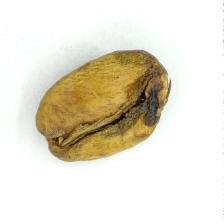NG: (106, 49, 170, 145)
